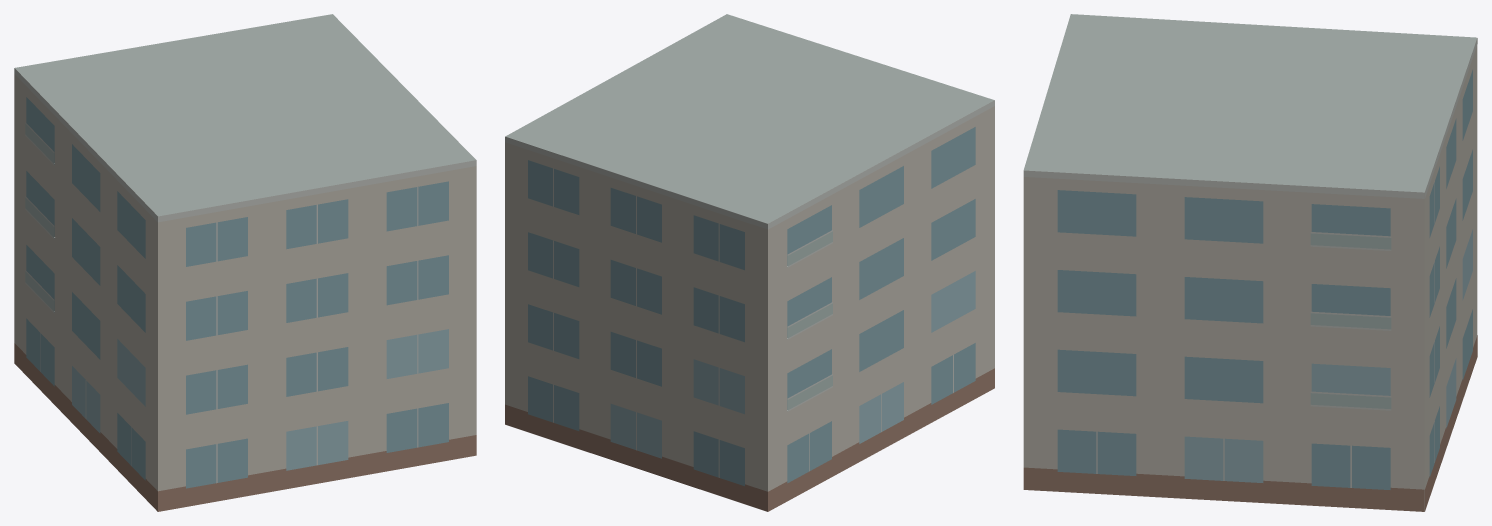
Rendered from residential-ceaa8002-b669-4335-96f9-65c9cbd5e196.glb.
The picture shows the model from 3 angles, left to right: view 1: azimuth 30°, elevation 25°; view 2: azimuth 150°, elevation 25°; view 3: azimuth 270°, elevation 25°; orthographic projection. The views are drawn at different scales.
Visible parts, largest first — view 1: residential-ceaa8002-b669-4335-96f9-65c9cbd5e196.tmp; view 2: residential-ceaa8002-b669-4335-96f9-65c9cbd5e196.tmp; view 3: residential-ceaa8002-b669-4335-96f9-65c9cbd5e196.tmp.
Part boxes in pixels (bbox=[...]): residential-ceaa8002-b669-4335-96f9-65c9cbd5e196.tmp: bbox=[14, 14, 476, 511]; residential-ceaa8002-b669-4335-96f9-65c9cbd5e196.tmp: bbox=[505, 14, 994, 511]; residential-ceaa8002-b669-4335-96f9-65c9cbd5e196.tmp: bbox=[1023, 14, 1477, 511].
Size of the model in its own units: 14.64 by 12.2 by 15.73.
